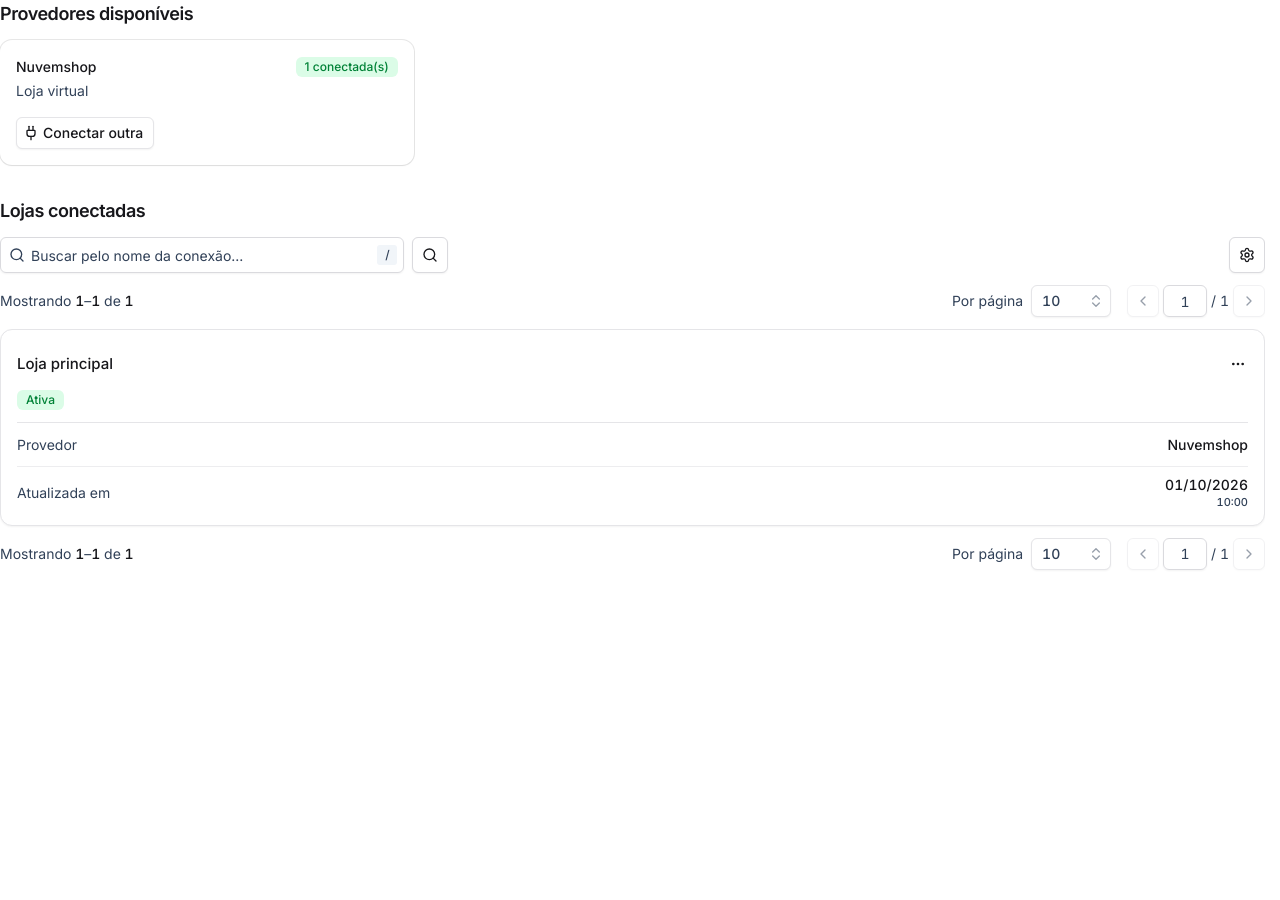
Test case: IntegrationArea › abre a edição com a conexão atual buscada na API
Click the button named "Ações da conexão Nuvemshop · Loja principal". click: coordinates (1238, 364)
box: x1=1222 y1=348 x2=1254 y2=380
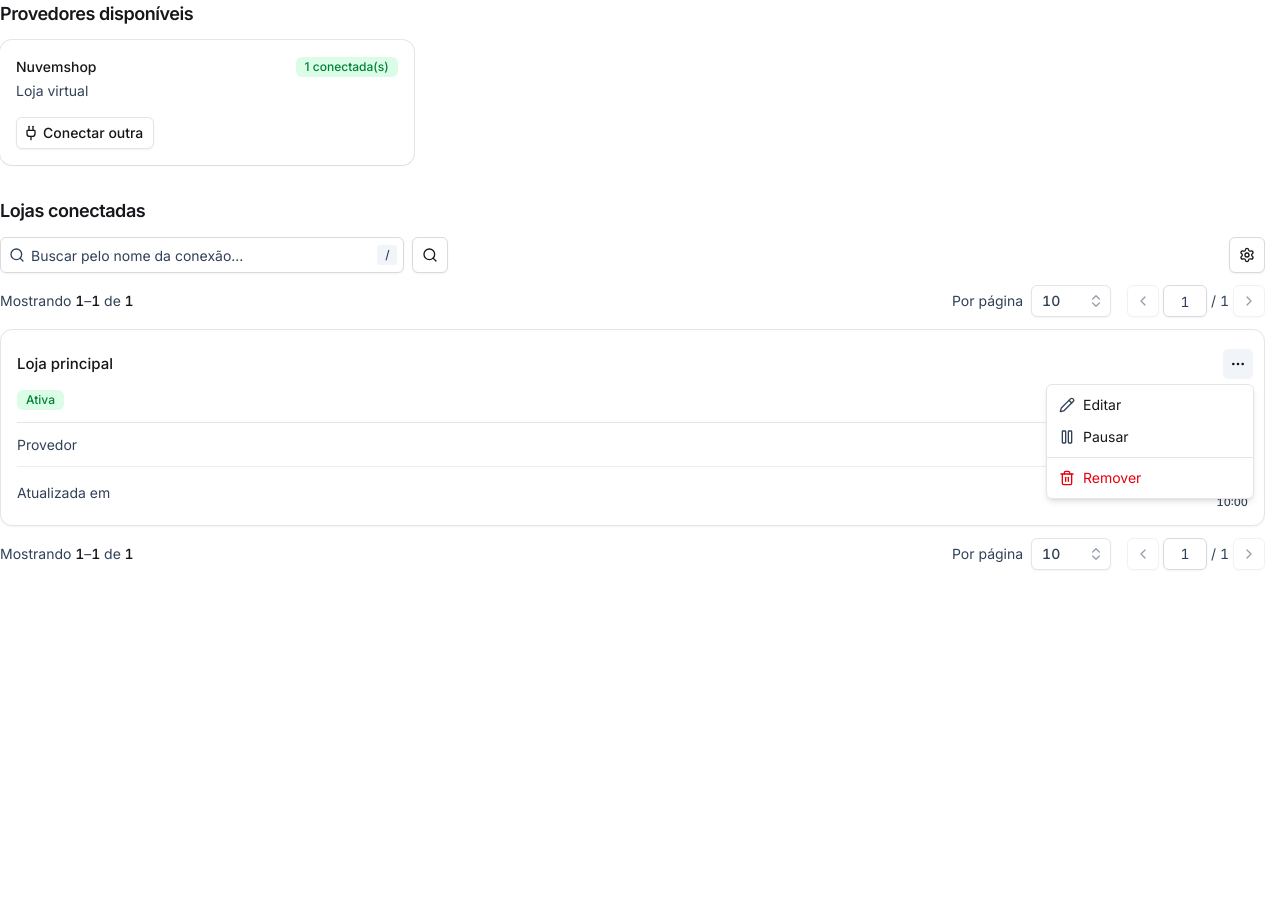
Click the menu item "Editar". click: coordinates (1090, 404)
box: x1=1059 y1=396 x2=1121 y2=413
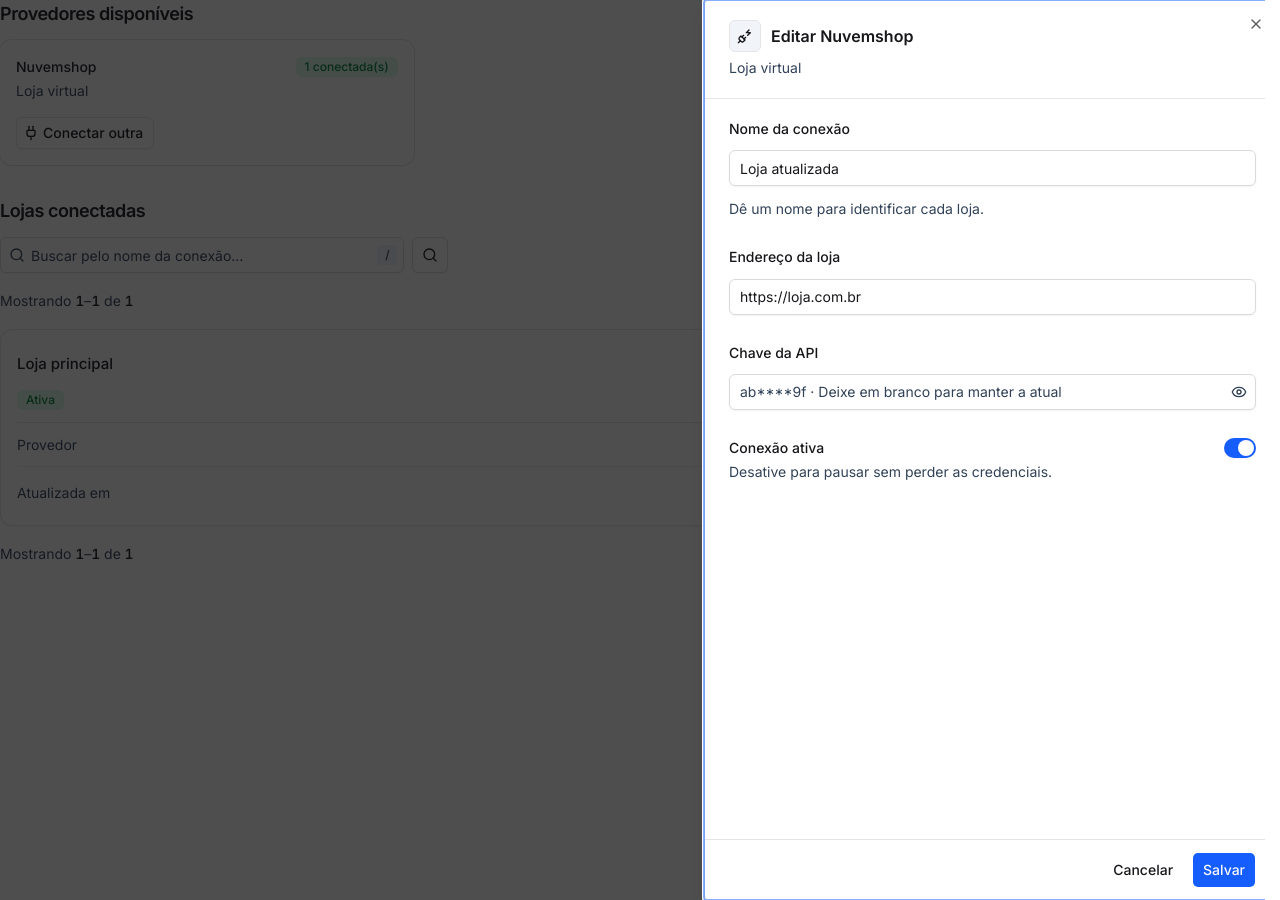
expect the field labelled "Nome da conexão" holds "Loja atualizada": met, box x1=729 y1=150 x2=1256 y2=186
